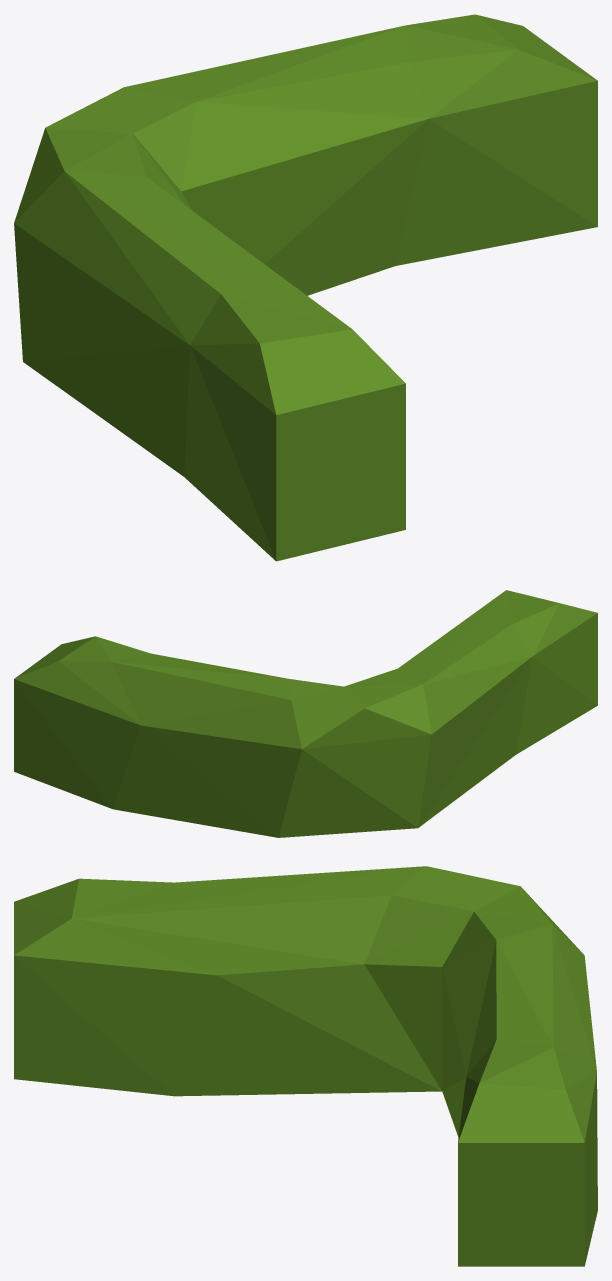
File: bush_corner.fbx
3 renders of one model, top to bottom at view 1: azimuth 30°, elevation 25°; view 2: azimuth 150°, elevation 25°; view 3: azimuth 270°, elevation 25°, orthographic. The views are drawn at different scales.
Visible parts, largest first — view 1: bush_corner; view 2: bush_corner; view 3: bush_corner.
Part boxes in pixels (<box>): bush_corner: <box>14,14,597,561</box>; bush_corner: <box>14,590,597,837</box>; bush_corner: <box>14,866,597,1266</box>.
Size of the model in its own units: 619 by 220 by 633.
